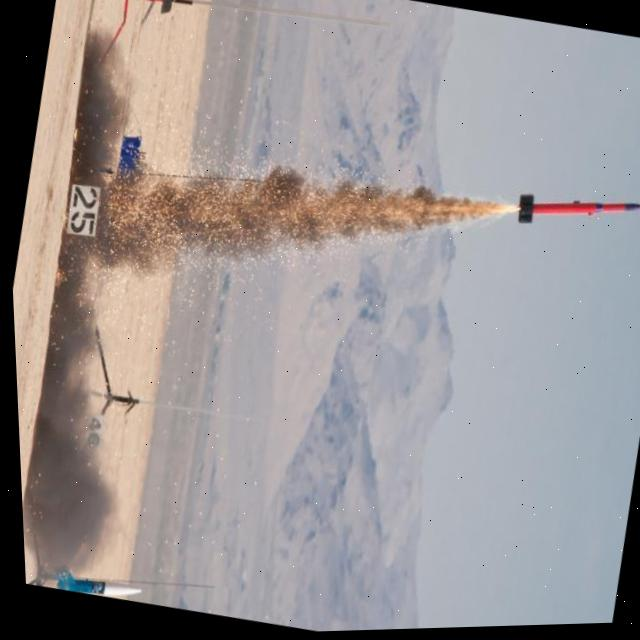missile: (507, 175, 640, 256)
